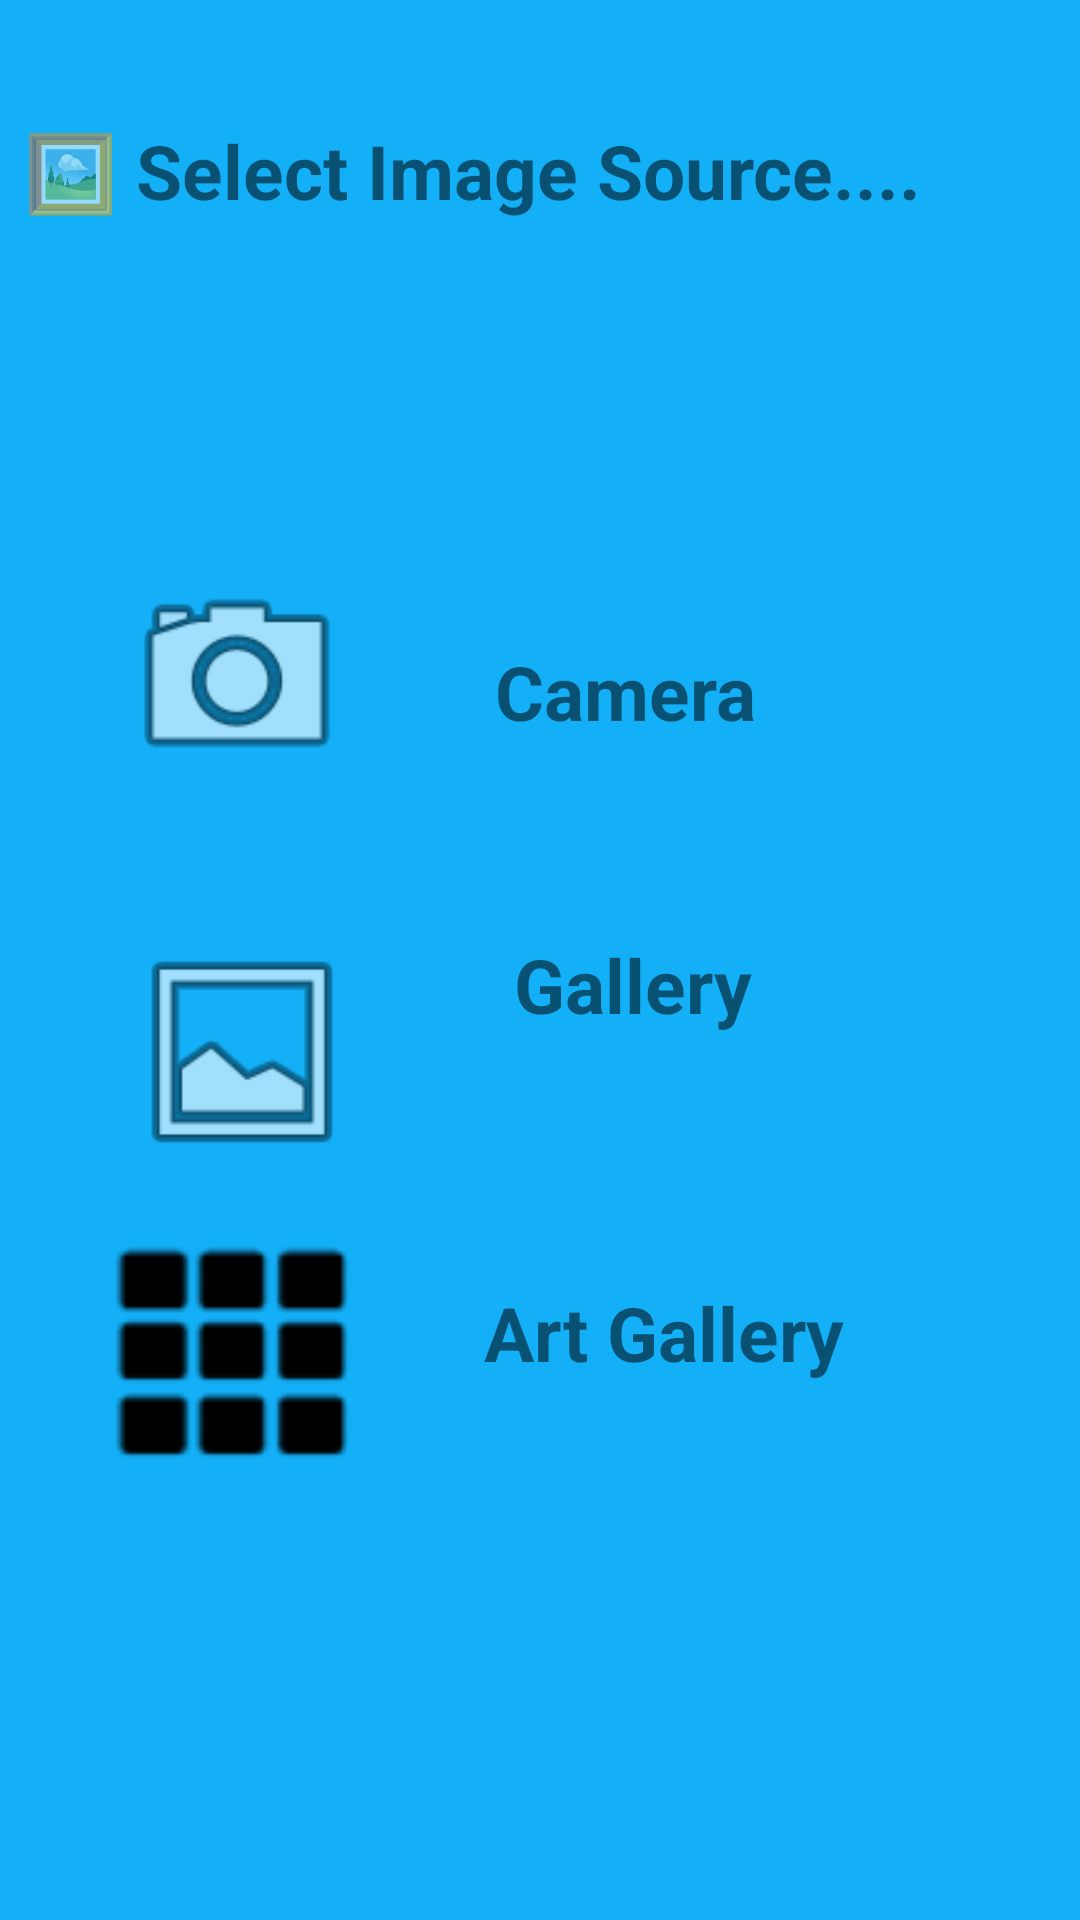

Screen size 1080*1920. Icon name, then its box in pixels as BBox(x1, y1, x2, y2):
dialer: BBox(116, 1247, 347, 1456)
